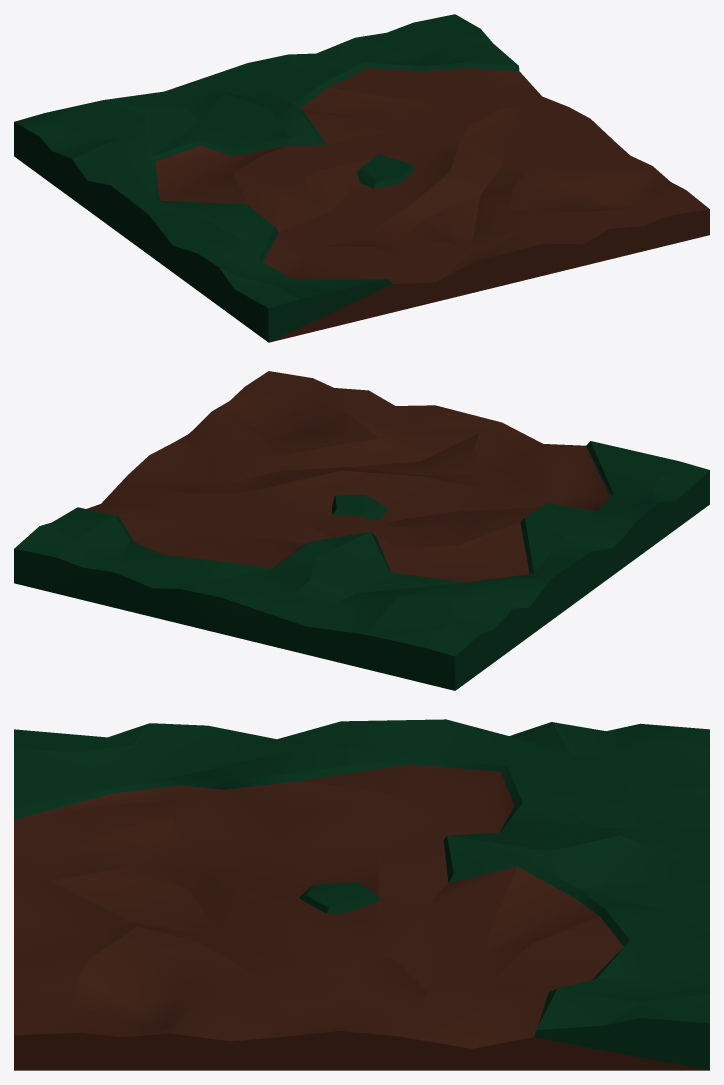
The model's file is Ground_Corner_Internal_LU.fbx.
3 renders of one model, top to bottom at view 1: azimuth 30°, elevation 25°; view 2: azimuth 150°, elevation 25°; view 3: azimuth 270°, elevation 25°, orthographic. The views are drawn at different scales.
Visible parts, largest first — view 1: Ground_Corner_Internal_LU; view 2: Ground_Corner_Internal_LU; view 3: Ground_Corner_Internal_LU.
Part boxes in pixels (x1=…): Ground_Corner_Internal_LU: x1=14, y1=14, x2=709, y2=342; Ground_Corner_Internal_LU: x1=14, y1=371, x2=709, y2=690; Ground_Corner_Internal_LU: x1=14, y1=719, x2=709, y2=1070.
Bounding box in the file's own units: 147 × 14.69 × 147.
